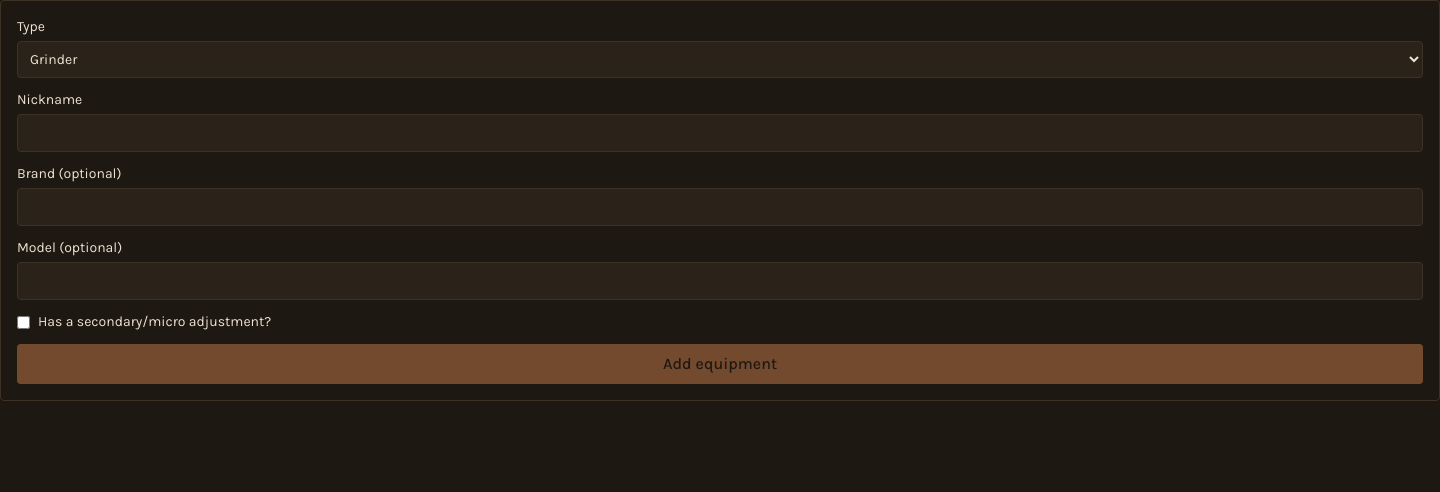
Test case: EquipmentForm › hides the micro-steps input until the micro-dial toggle is checked
Expected: the field labelled "micro steps per macro notch" is not shown
Click the checkbox labelled "Has a secondary/micro adjustment?". click: (24, 322)
box: [17,316,30,328]
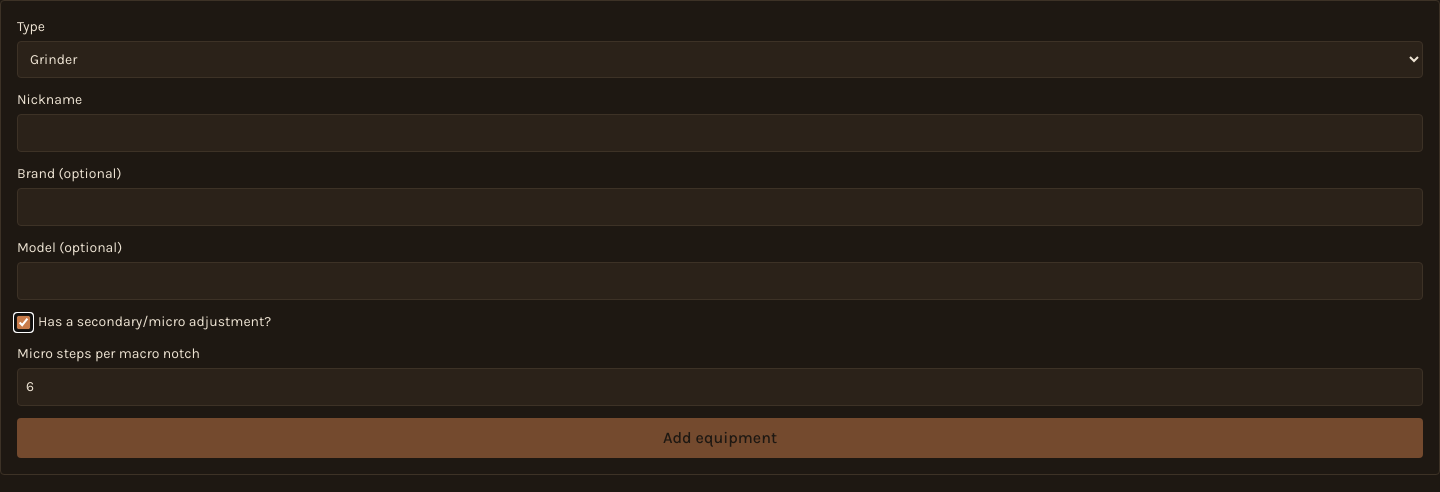
Expected: the number field labelled "Micro steps per macro notch" holds "6", [17,368,1423,406]
